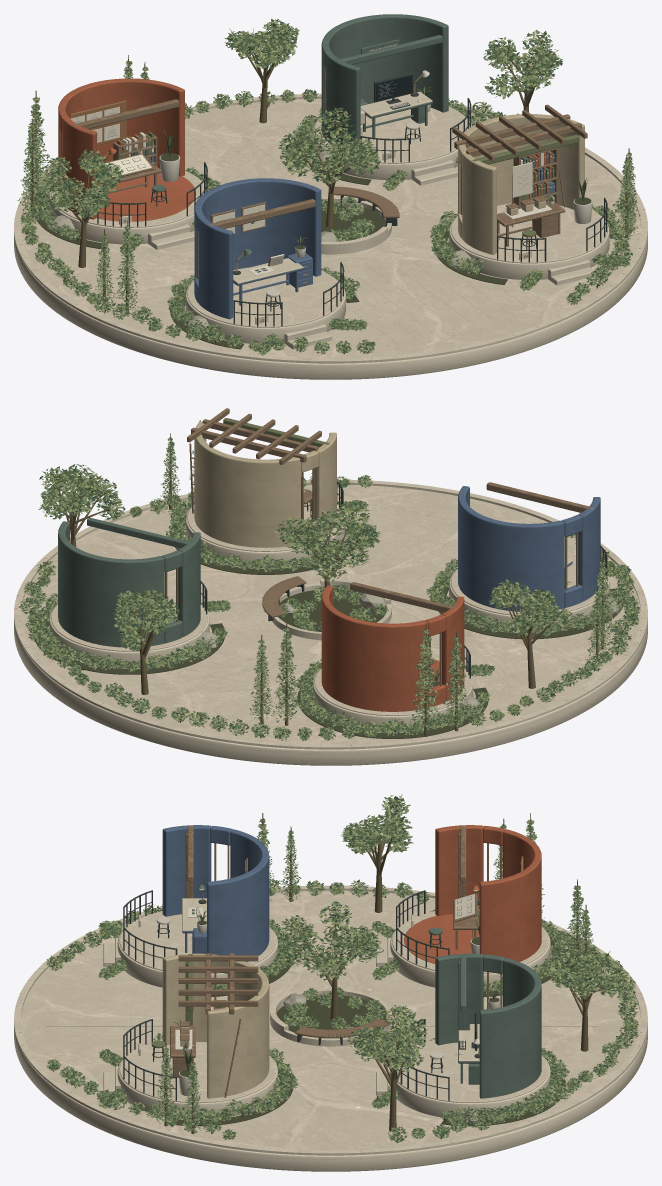
The model's file is island.glb.
3 renders of one model, top to bottom at view 1: azimuth 30°, elevation 25°; view 2: azimuth 150°, elevation 25°; view 3: azimuth 270°, elevation 25°, orthographic.
Parts seen in each view (by area): view 1: island_foundation, pavilion_evoluir, pavilion_validar, pavilion_gerar, pavilion_especificar, garden_groundcover, central_court, ambient_canopy_central_tree, ambient_canopy_olive_west, ambient_canopy_olive_east, ambient_canopy_olive_north, cypress_1 (+7 smaller); view 2: island_foundation, garden_groundcover, pavilion_evoluir, pavilion_especificar, pavilion_validar, pavilion_gerar, central_court, ambient_canopy_central_tree, ambient_canopy_olive_east, ambient_canopy_olive_north, ambient_canopy_olive_west, cypress_0 (+10 smaller); view 3: island_foundation, pavilion_evoluir, pavilion_gerar, pavilion_especificar, garden_groundcover, pavilion_validar, central_court, ambient_canopy_central_tree, ambient_canopy_olive_east, ambient_canopy_olive_north, ambient_canopy_olive_west, cypress_6 (+7 smaller).
Boxes of the visible parts, x1,y1,x2,y2 form: island_foundation: [14, 93, 647, 379]; pavilion_evoluir: [449, 104, 609, 285]; pavilion_validar: [185, 178, 345, 349]; pavilion_gerar: [312, 14, 471, 185]; pavilion_especificar: [49, 78, 208, 249]; garden_groundcover: [21, 89, 636, 355]; central_court: [291, 114, 399, 254]; ambient_canopy_central_tree: [278, 107, 380, 183]; ambient_canopy_olive_west: [43, 149, 124, 218]; ambient_canopy_olive_east: [483, 30, 562, 99]; ambient_canopy_olive_north: [224, 18, 299, 69]; cypress_1: [17, 118, 47, 218]; island_foundation: [14, 479, 647, 765]; garden_groundcover: [19, 473, 640, 740]; pavilion_evoluir: [185, 408, 345, 568]; pavilion_especificar: [312, 582, 473, 732]; pavilion_validar: [449, 482, 609, 632]; pavilion_gerar: [49, 517, 209, 668]; central_court: [262, 504, 391, 640]; ambient_canopy_central_tree: [274, 500, 380, 582]; ambient_canopy_olive_east: [38, 464, 125, 520]; ambient_canopy_olive_north: [113, 588, 179, 651]; ambient_canopy_olive_west: [489, 579, 571, 635]; cypress_0: [410, 623, 440, 736]; island_foundation: [14, 885, 647, 1171]; pavilion_evoluir: [103, 953, 277, 1119]; pavilion_gerar: [376, 953, 550, 1118]; pavilion_especificar: [376, 825, 550, 989]; garden_groundcover: [46, 879, 638, 1143]; pavilion_validar: [103, 825, 277, 988]; central_court: [270, 904, 391, 1046]; ambient_canopy_central_tree: [281, 901, 383, 980]; ambient_canopy_olive_east: [347, 1005, 427, 1072]; ambient_canopy_olive_north: [549, 947, 623, 999]; ambient_canopy_olive_west: [340, 795, 413, 854]; cypress_6: [154, 1043, 176, 1126].
Bounding box in the file's own units: 20 × 4.59 × 20.
Materials: 25 (8 with a texture image).
